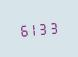one: (28, 20, 37, 37)
six: (18, 21, 27, 37)
three: (38, 20, 47, 36), (48, 19, 57, 35)
